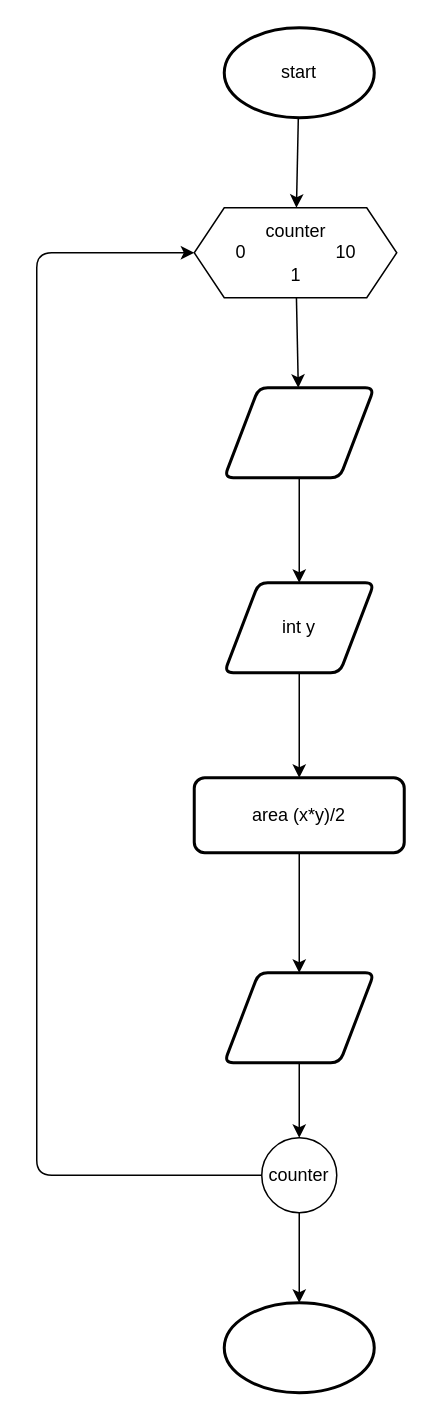
This 432x1419 diagram has some shape labels left out. Each missing label, with the box of its shape:
end: (222, 1300, 375, 1394)
int x: (222, 386, 375, 478)
print area: (222, 970, 375, 1064)
